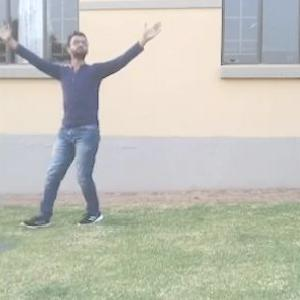takeoff: (1, 27, 160, 221)
